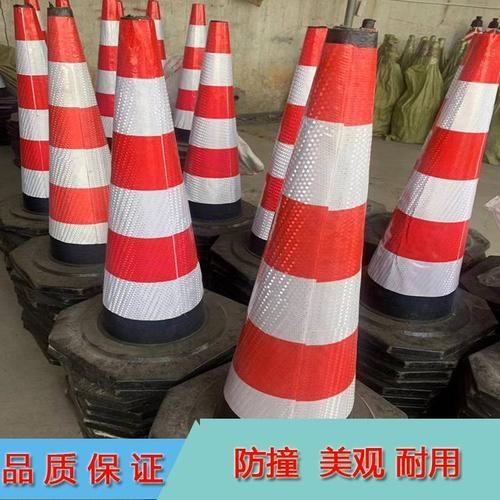cone_barrel: (224, 39, 387, 427), (362, 24, 498, 345), (96, 17, 210, 340), (38, 7, 115, 267), (182, 19, 249, 223), (9, 5, 47, 219), (172, 4, 209, 141), (93, 6, 119, 127)
